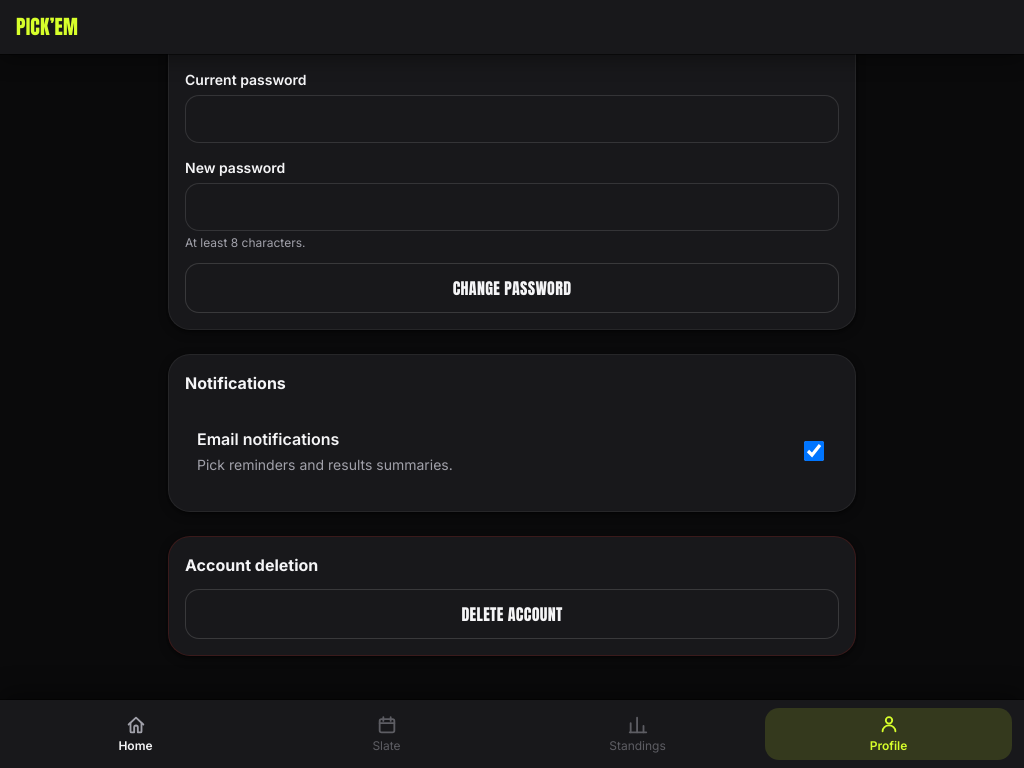
Test: ProfileScreen › requires a two-step confirm before requesting account deletion
(page scrolled)
Click the button "Delete account": (512, 614) x1=185 y1=589 x2=839 y2=639
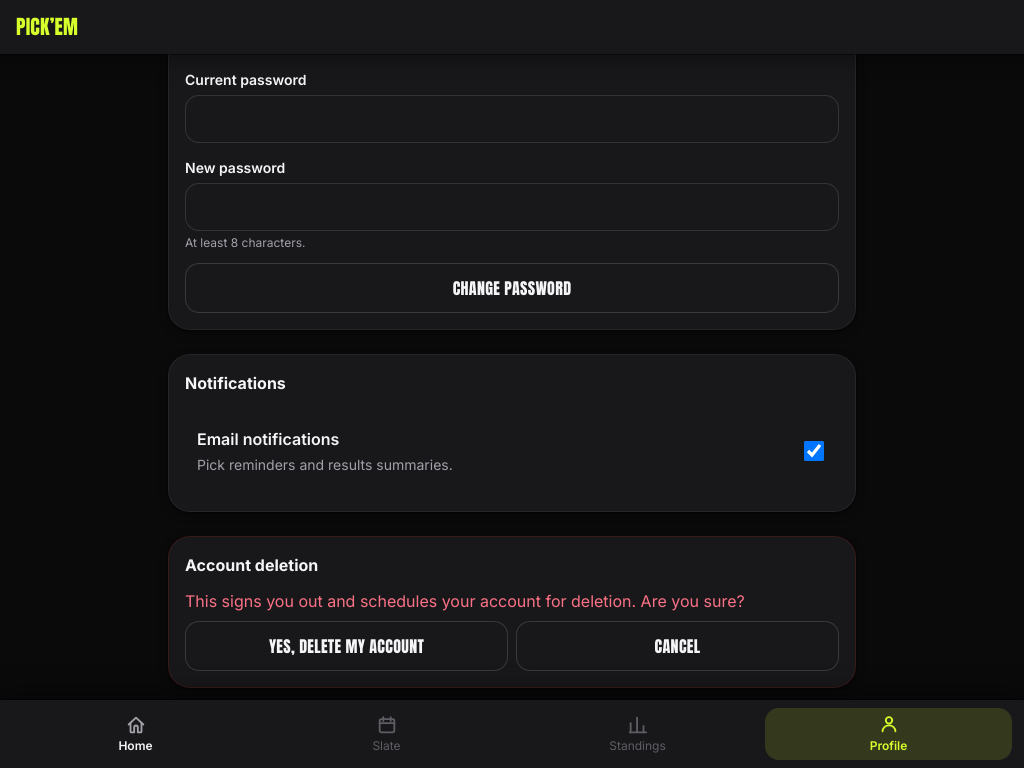
Now the text "Are you sure" is shown, box x1=185 y1=591 x2=745 y2=611
Click the button "Yes, delete my account": (346, 646) x1=185 y1=621 x2=508 y2=671
(page scrolled)
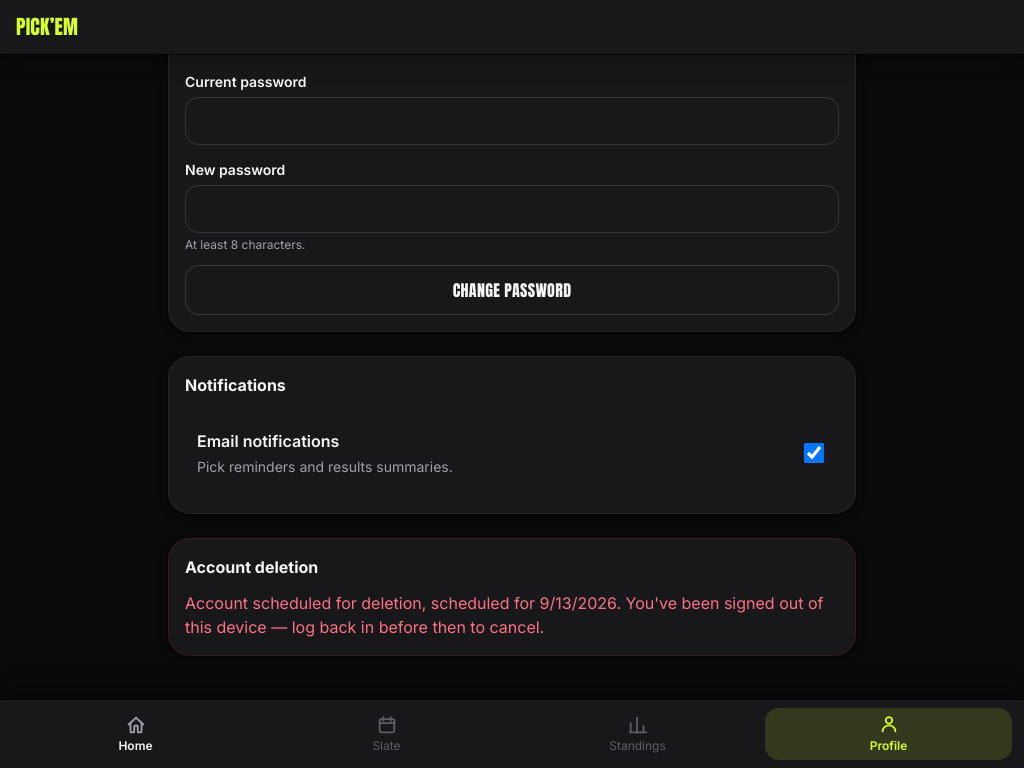
Now the text "You've been signed out of this device" is shown, box x1=185 y1=593 x2=823 y2=637
